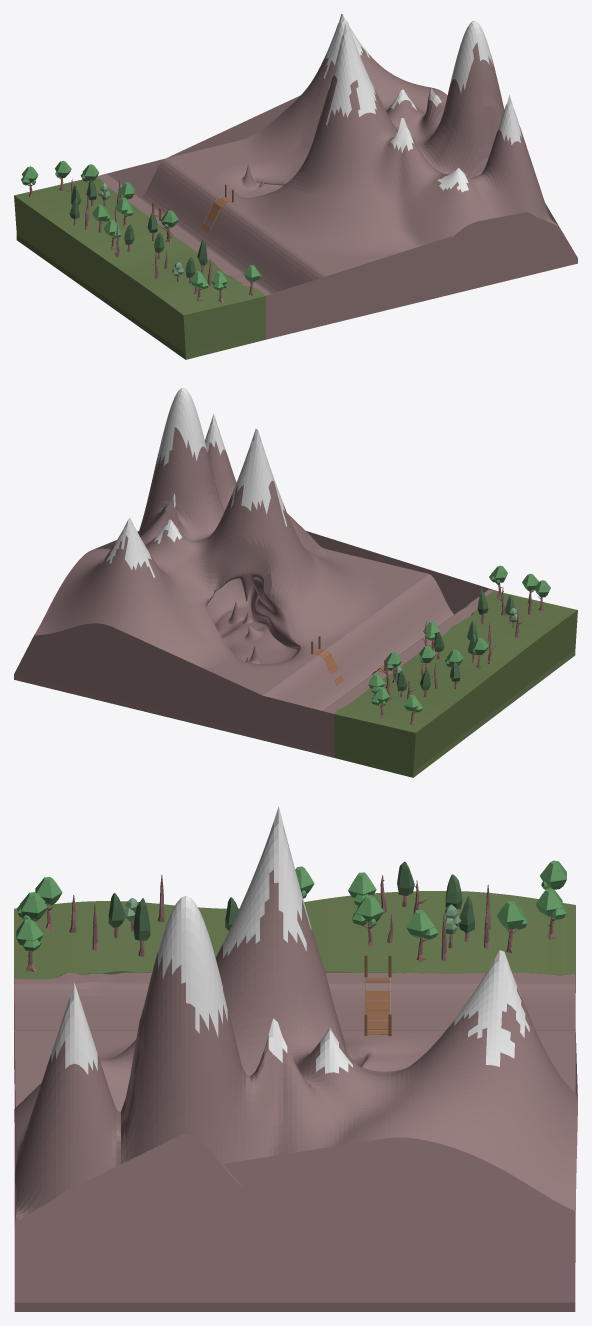
Rendered from 2 лок в цвете.fbx.
The picture shows the model from 3 angles, top to bottom: view 1: azimuth 30°, elevation 25°; view 2: azimuth 150°, elevation 25°; view 3: azimuth 270°, elevation 25°; orthographic projection. The views are drawn at different scales.
Visible parts, largest first — view 1: Plane.002; view 2: Plane.002; view 3: Plane.002.
Part boxes in pixels (left/top/right/bottom): Plane.002: left=14, top=14, right=577, bottom=359; Plane.002: left=14, top=388, right=577, bottom=777; Plane.002: left=14, top=806, right=577, bottom=1311.
Size of the model in its own units: 3624 by 1915 by 2577.
